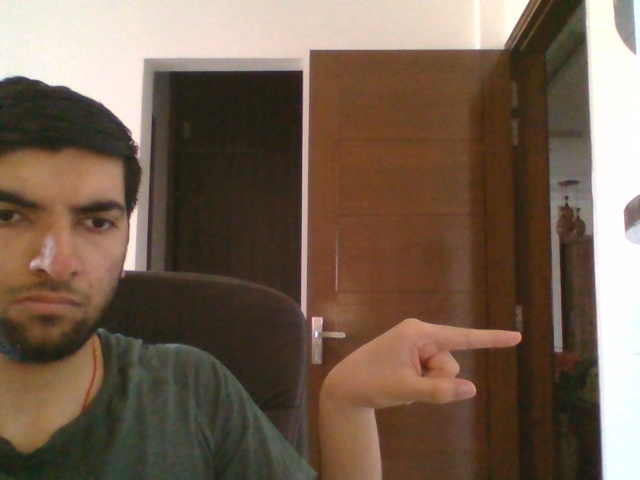LetterG: (316, 317, 522, 409)
